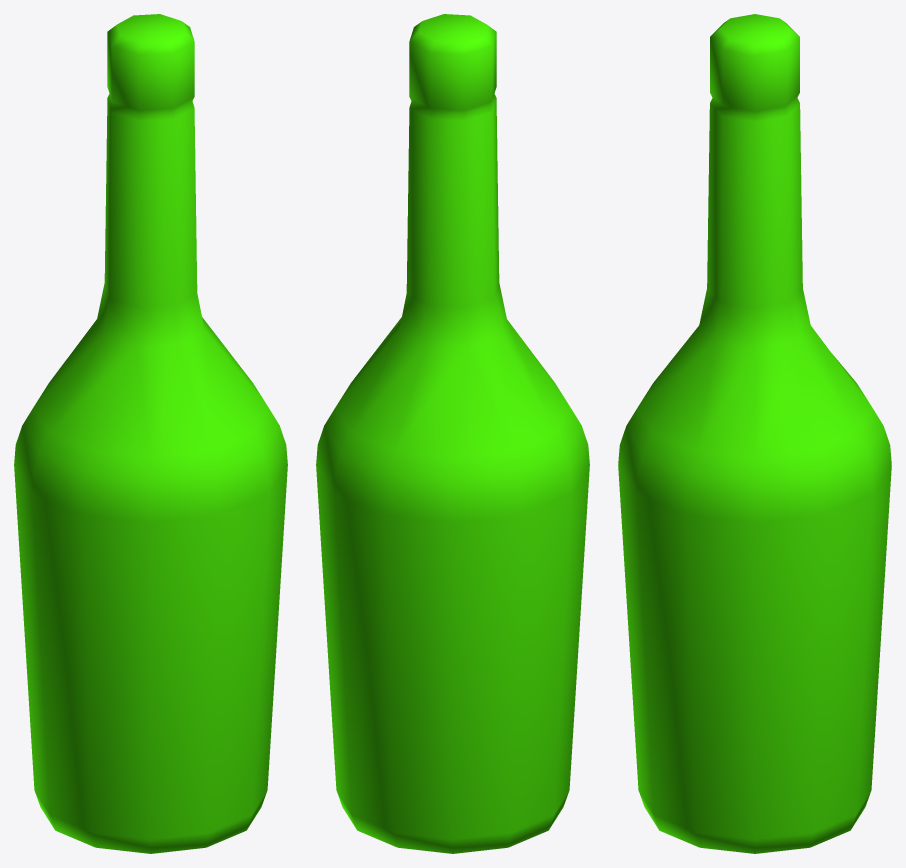
Rendered from 20_whiskey_sortilege.gltf.
3 views of the same model, side by side, from view 1: azimuth 30°, elevation 25°; view 2: azimuth 150°, elevation 25°; view 3: azimuth 270°, elevation 25° (orthographic).
Visible parts, largest first — view 1: Sortilege_Atlas_0; view 2: Sortilege_Atlas_0; view 3: Sortilege_Atlas_0.
Boxes of the visible parts, x1,y1,x2,y2 form: Sortilege_Atlas_0: [14, 14, 287, 853]; Sortilege_Atlas_0: [316, 14, 589, 853]; Sortilege_Atlas_0: [618, 14, 891, 853].
Size of the model in its own units: 8.56 by 27.12 by 8.56.
1 material, 1 textured.
